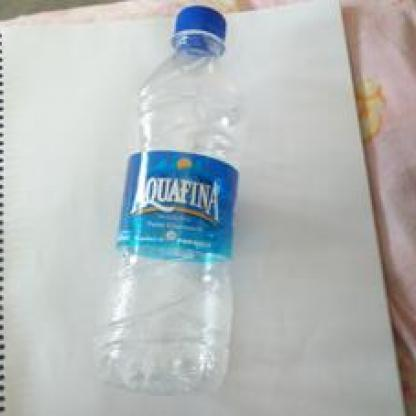bottle: (112, 0, 248, 392)
